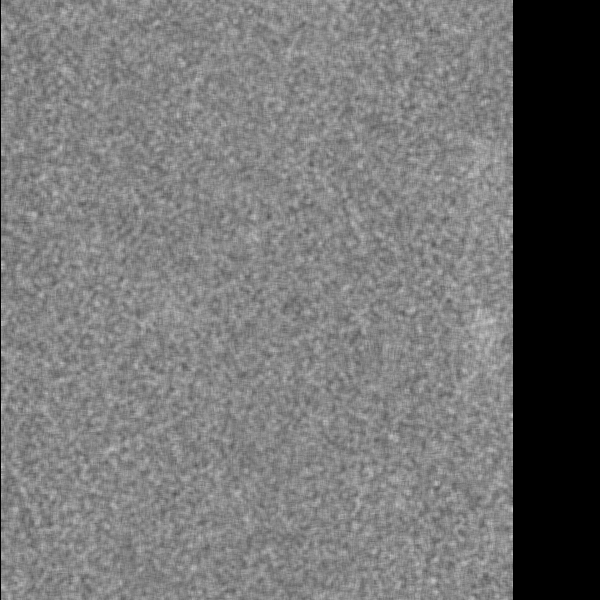spark: (471, 309, 501, 334)
